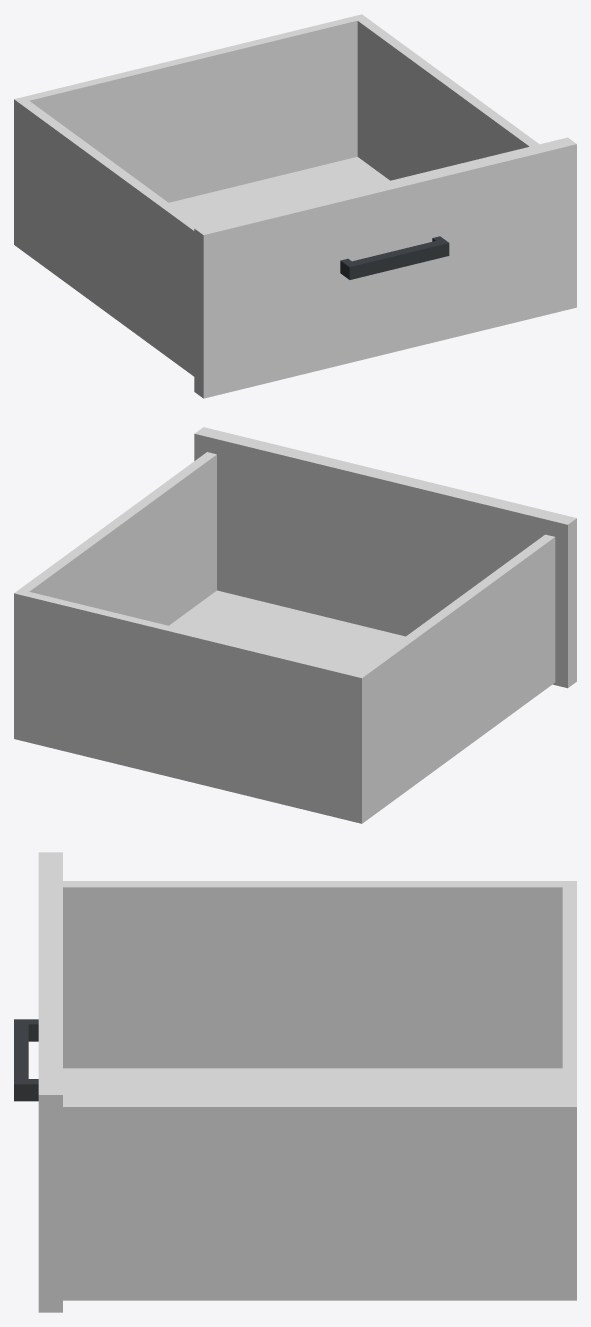
Rendered from Door2_C1_05.fbx.
The picture shows the model from 3 angles, top to bottom: view 1: azimuth 30°, elevation 25°; view 2: azimuth 150°, elevation 25°; view 3: azimuth 270°, elevation 25°; orthographic projection. The views are drawn at different scales.
Visible parts, largest first — view 1: Door2_C1_05; view 2: Door2_C1_05; view 3: Door2_C1_05.
Boxes of the visible parts, bbox=[...] form: Door2_C1_05: bbox=[14, 14, 576, 398]; Door2_C1_05: bbox=[14, 427, 576, 823]; Door2_C1_05: bbox=[14, 852, 576, 1312].
Size of the model in its own units: 59 by 24.68 by 57.89.
